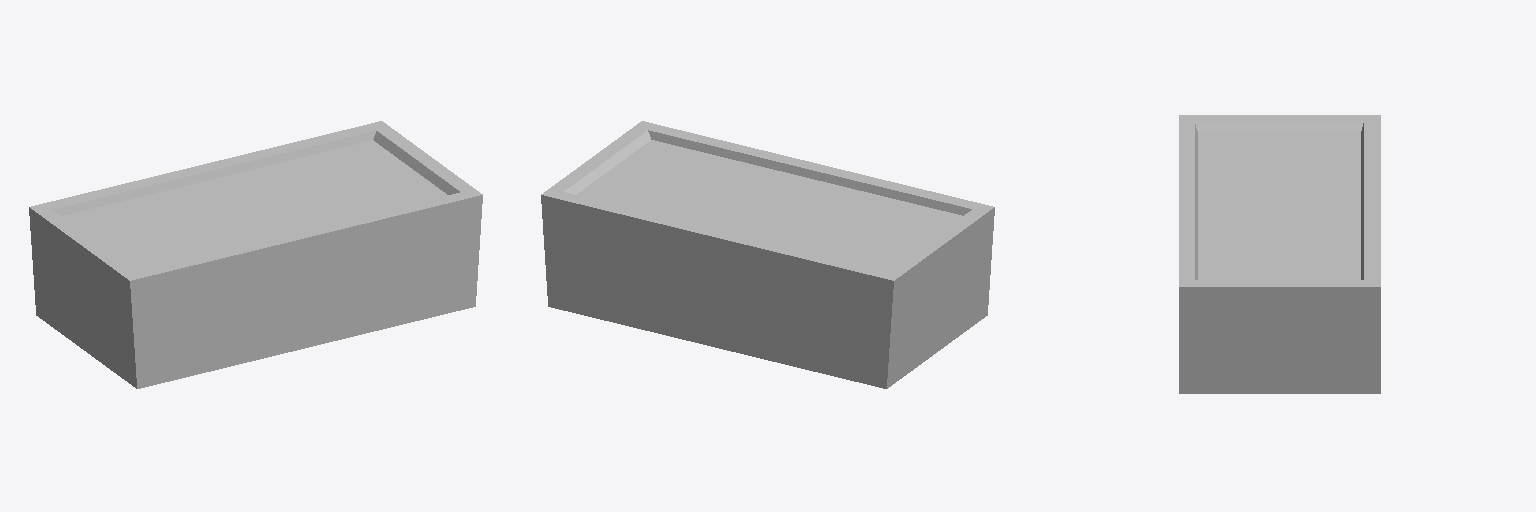
File: fishtank.obj
3 views of the same model, side by side, from view 1: azimuth 30°, elevation 25°; view 2: azimuth 150°, elevation 25°; view 3: azimuth 270°, elevation 25° (orthographic).
Bounding box in the file's own units: 4.05 × 1.21 × 2.01.